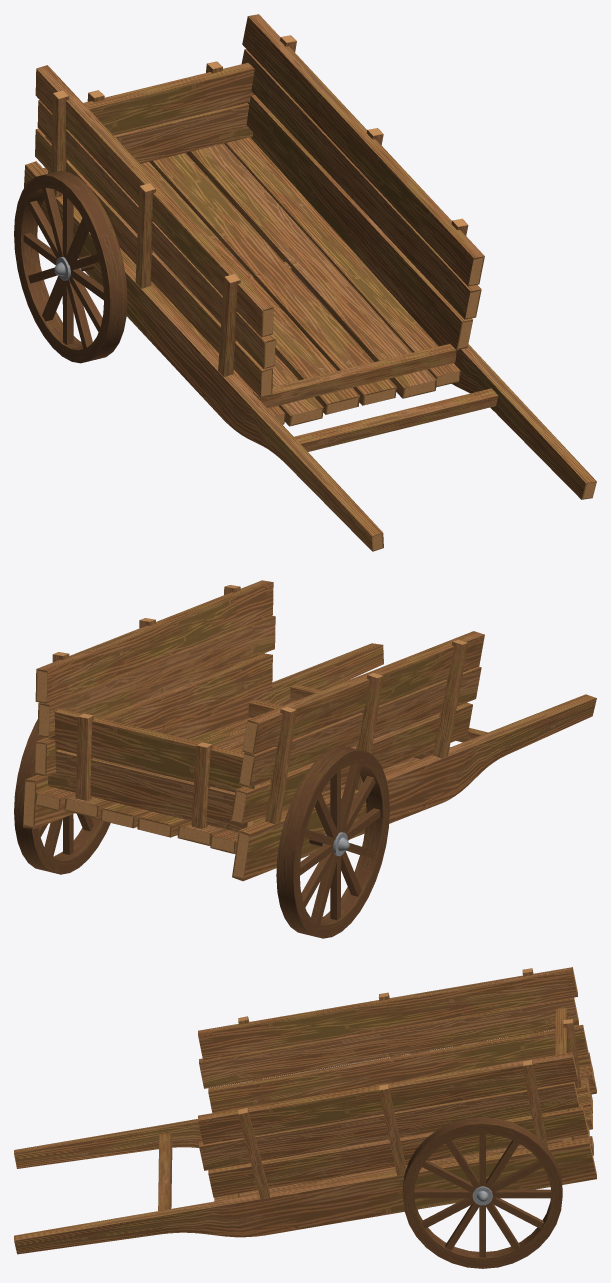
Rendered from wagon.glb.
The picture shows the model from 3 angles, top to bottom: view 1: azimuth 30°, elevation 25°; view 2: azimuth 150°, elevation 25°; view 3: azimuth 270°, elevation 25°; orthographic projection. The views are drawn at different scales.
Parts seen in each view (by area): view 1: Prop_Wagon; view 2: Prop_Wagon; view 3: Prop_Wagon.
Part boxes in pixels (x1=…): Prop_Wagon: x1=14, y1=14, x2=596, y2=551; Prop_Wagon: x1=14, y1=580, x2=596, y2=938; Prop_Wagon: x1=14, y1=967, x2=596, y2=1268.
Bounding box in the file's own units: 1.95 × 1.53 × 4.02.
1 material, 1 textured.
